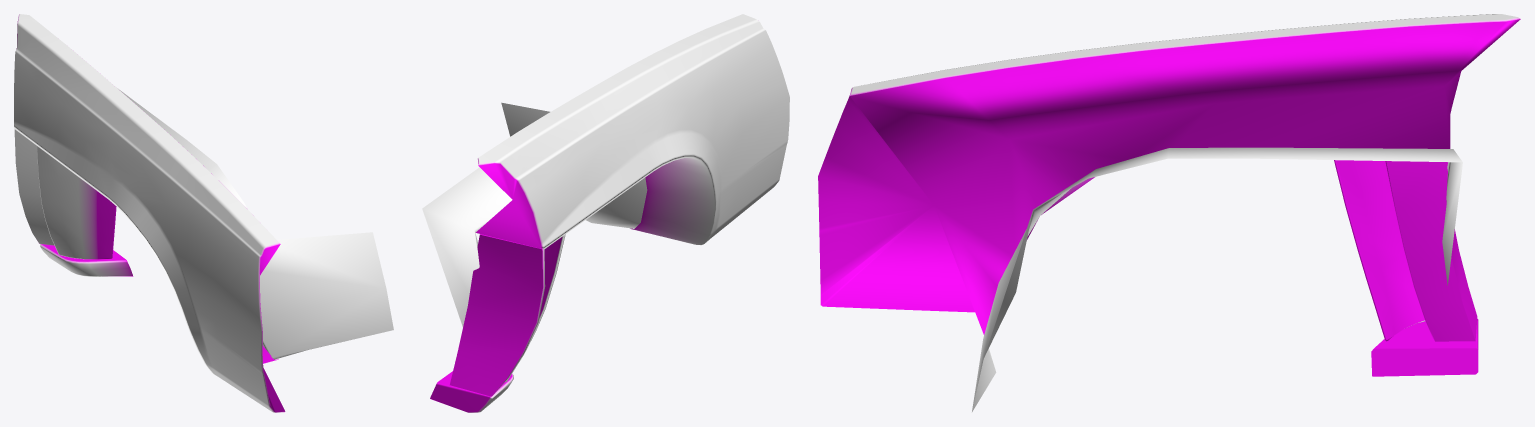
Rendered from Car_Buick_GrandNational_1987_FenderFR_SetB.fbx.
3 views of the same model, side by side, from view 1: azimuth 30°, elevation 25°; view 2: azimuth 150°, elevation 25°; view 3: azimuth 270°, elevation 25° (orthographic). The views are drawn at different scales.
Visible parts, largest first — view 1: FenderFR 6; view 2: FenderFR 6; view 3: FenderFR 6.
Boxes of the visible parts, x1,y1,x2,y2 form: FenderFR 6: (14,14,393,412); FenderFR 6: (422,14,789,412); FenderFR 6: (818,14,1520,411).
Size of the model in its own units: 0.6476 by 0.7253 by 1.42.
